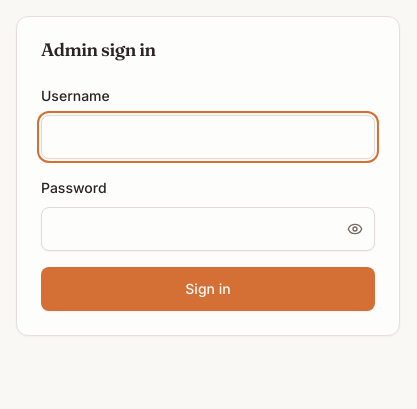
Test: AdminLogin — every failure mode says something actionable › F12: a network failure blames the connection, not the password
Type "admin" into the field labelled "Username". click: (208, 137)
box: [41,115,375,159]
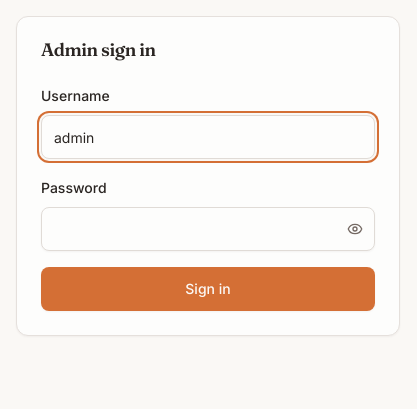
Type "s3cret" into the password field labelled "Password". click: (208, 229)
box: [41,207,375,251]
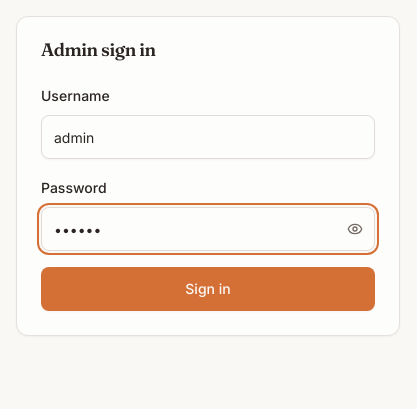
Click the button "Sign in". click: (208, 289)
box: [41,267,375,311]
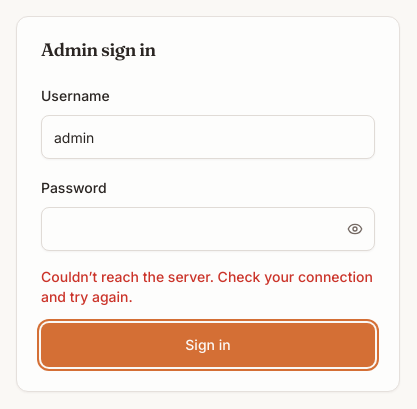
Expected: the message shows "Couldn’t reach the server", [41,268,373,305]
